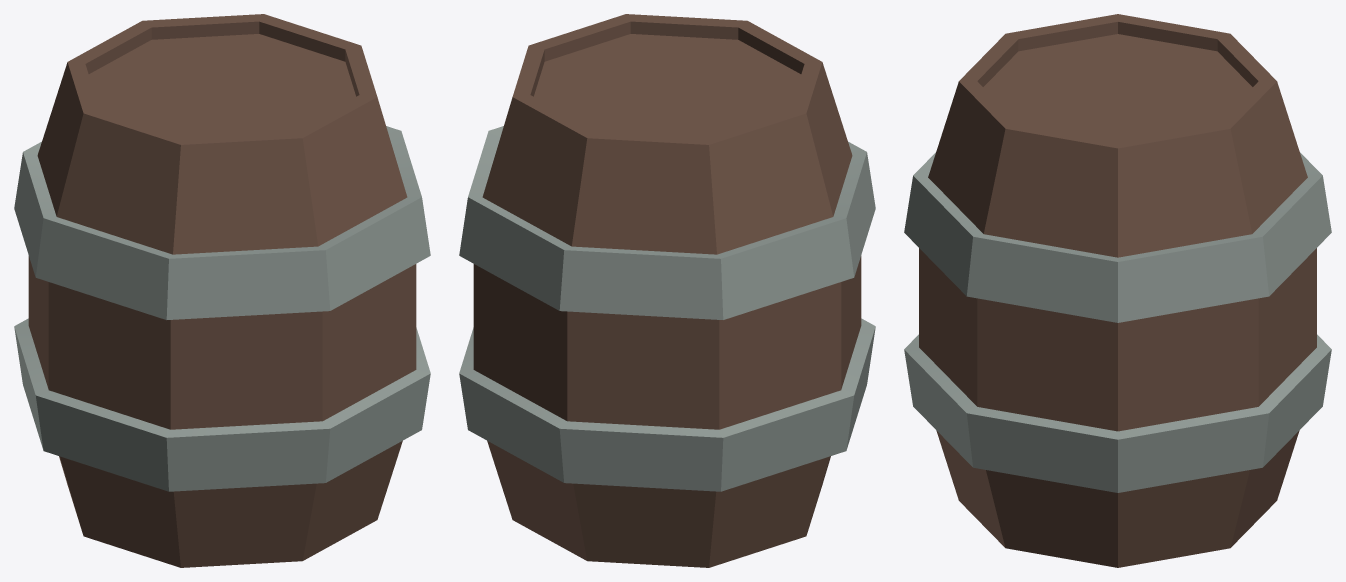
The model's file is Barril.fbx.
3 renders of one model, left to right at view 1: azimuth 30°, elevation 25°; view 2: azimuth 150°, elevation 25°; view 3: azimuth 270°, elevation 25°, orthographic.
Visible parts, largest first — view 1: pCylinder5; view 2: pCylinder5; view 3: pCylinder5.
Boxes of the visible parts, <box> form: pCylinder5: <box>14,14,430,567</box>; pCylinder5: <box>459,14,875,567</box>; pCylinder5: <box>904,14,1331,567</box>.
Size of the model in its own units: 2.57 by 2.78 by 2.57.
